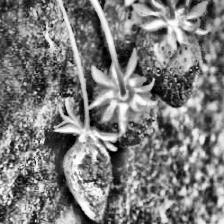Gray Mold: (55, 104, 118, 222)
